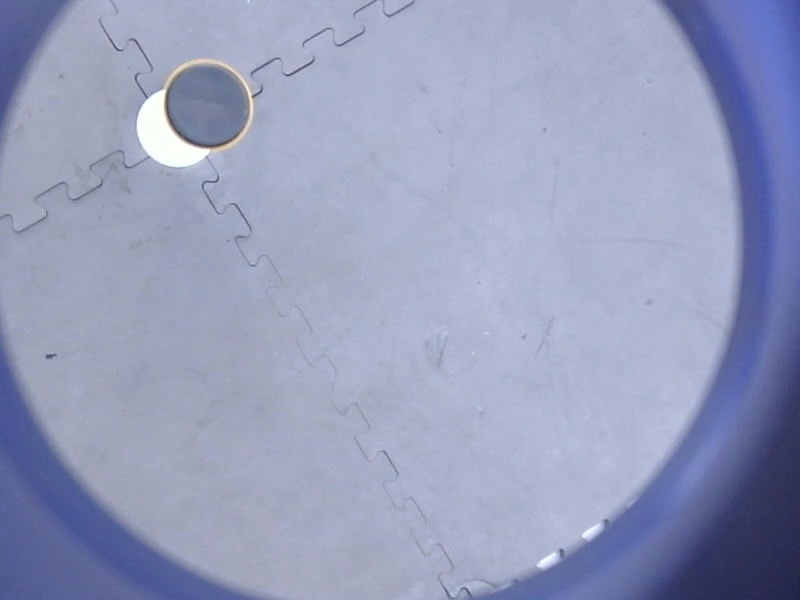tip: (158, 54, 258, 156)
